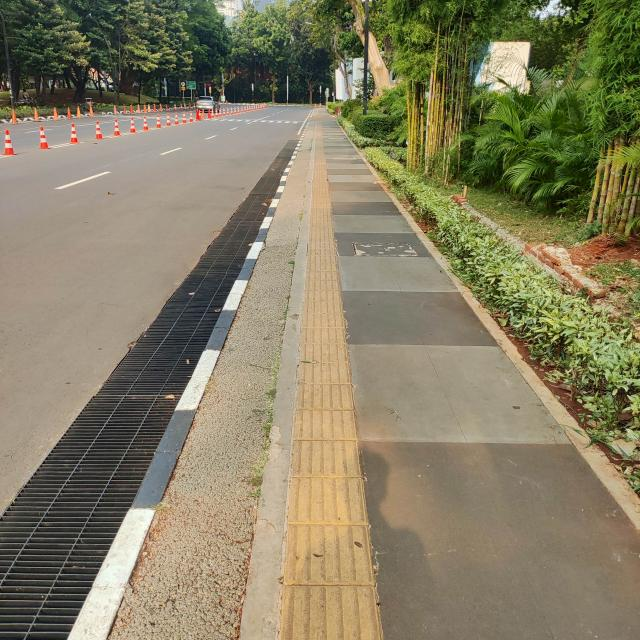lurus: (291, 149, 366, 640)
